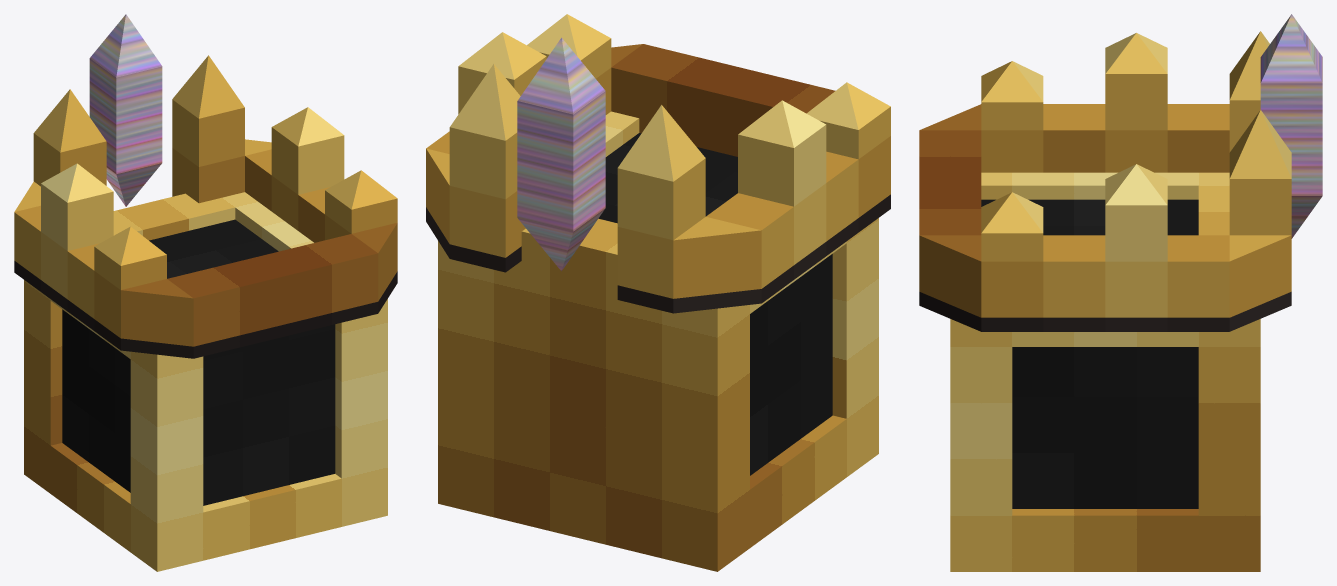
Rendered from head_smart.obj.
3 views of the same model, side by side, from view 1: azimuth 30°, elevation 25°; view 2: azimuth 150°, elevation 25°; view 3: azimuth 270°, elevation 25° (orthographic). The views are drawn at different scales.
Visible parts, largest first — view 1: HEAD_SMART_GOLD_Cube.222; view 2: HEAD_SMART_GOLD_Cube.222; view 3: HEAD_SMART_GOLD_Cube.222.
Part boxes in pixels (box(x1,y1,x2,y2)): HEAD_SMART_GOLD_Cube.222: box(14, 14, 397, 571); HEAD_SMART_GOLD_Cube.222: box(426, 14, 890, 571); HEAD_SMART_GOLD_Cube.222: box(919, 14, 1322, 571).
Size of the model in its own units: 0.375 by 0.5469 by 0.4062.
